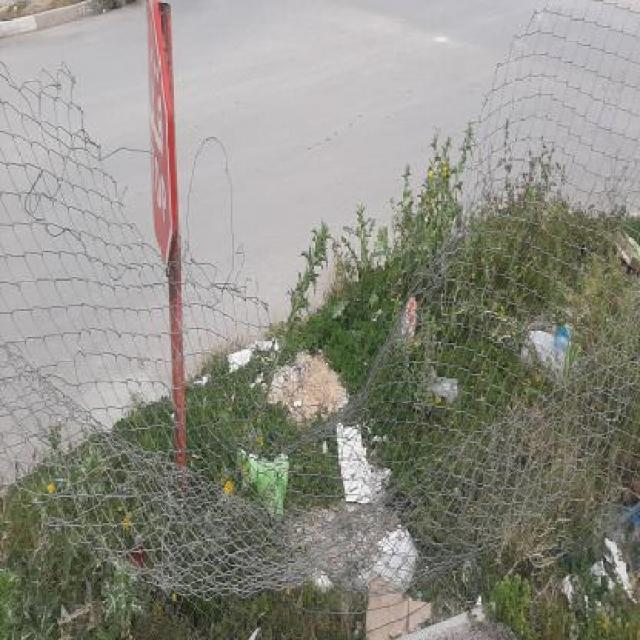fence line: (107, 41, 541, 424)
